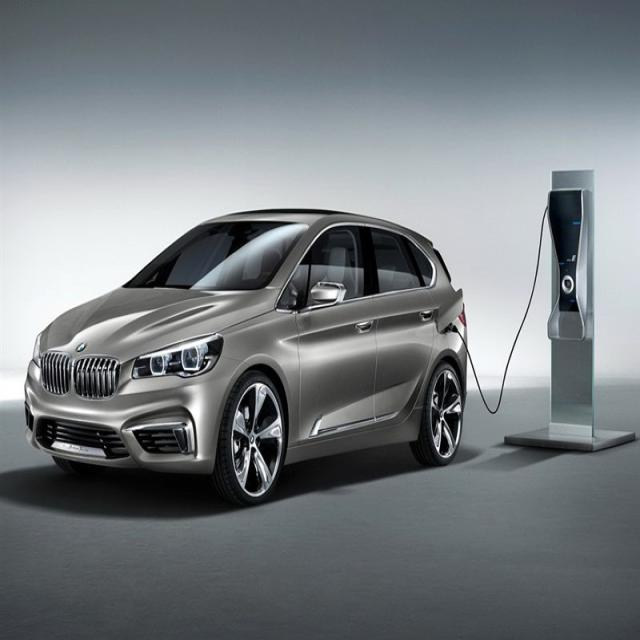back_left_side_light: (456, 292, 470, 328)
door: (361, 226, 432, 435)
front_bumper: (20, 394, 227, 475)
front_glass: (120, 221, 310, 290)
front_left_side_door: (287, 220, 380, 454)
front_left_side_light: (130, 327, 226, 386)
front_left_side_mirror: (303, 279, 352, 309)
front_right_side_light: (31, 328, 45, 372)
wheel: (213, 367, 288, 509), (407, 364, 467, 466)
